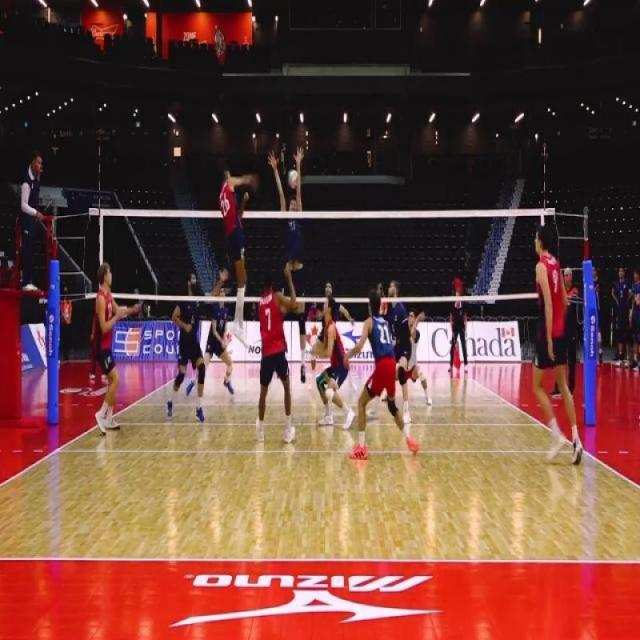volleyball: (288, 168, 298, 191)
